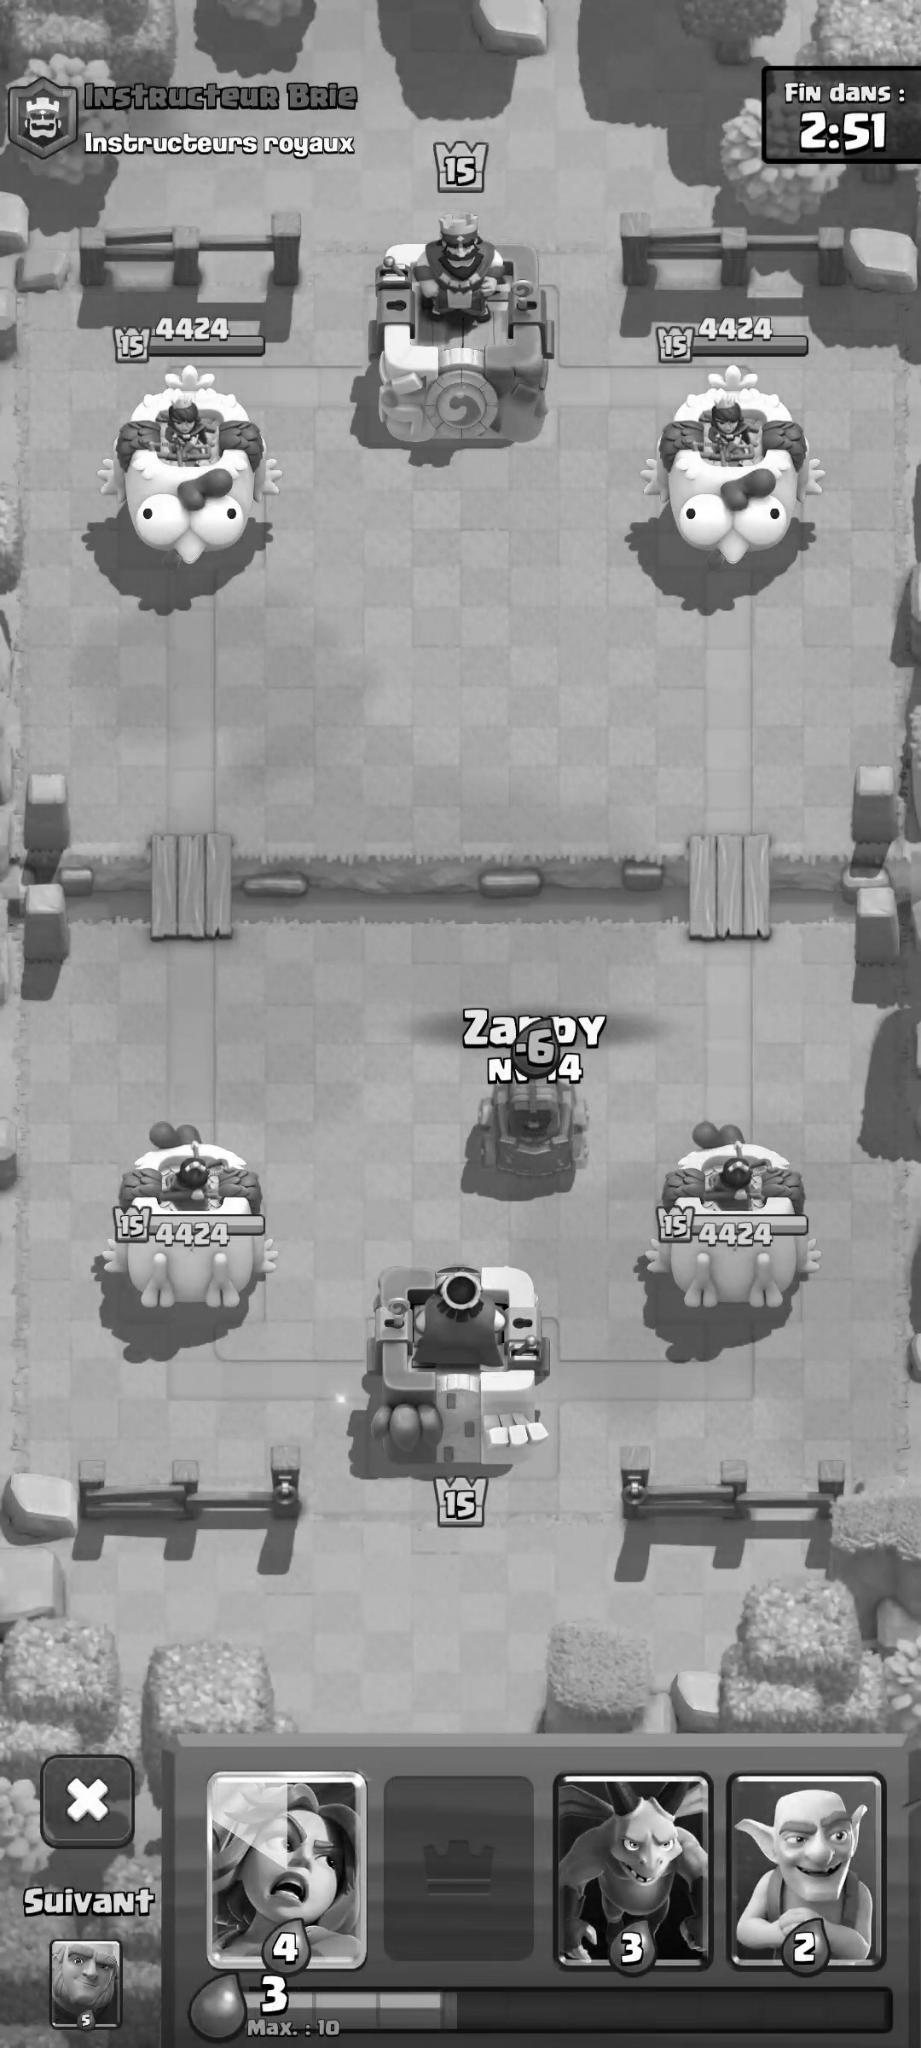zappy: (432, 1055, 614, 1225)
